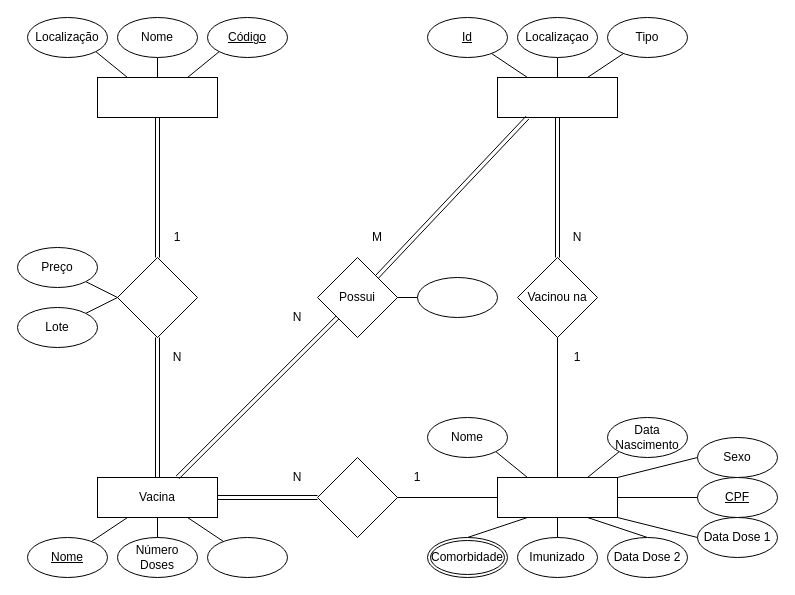
Image size: 795x595. Some labels were removed from this diagram. Here are the shapes that lost their labels. From the top down, the centre of each, then its label:
pixel 157 97: Fornecedor
pixel 557 97: Unidade de Vacinação
pixel 157 297: Fabrica
pixel 457 297: Estoque
pixel 357 497: Vacinado por
pixel 557 497: Paciente
pixel 247 557: Refrigeração Especial
